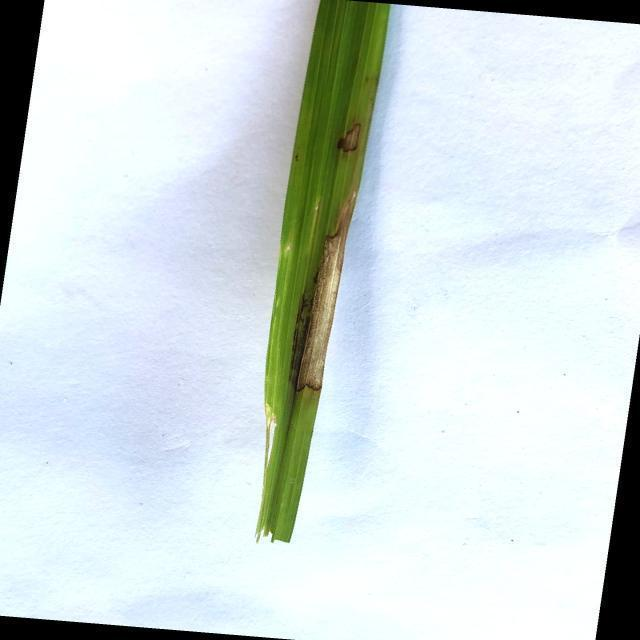Bacterial_Leaf_Blight: (292, 190, 364, 394), (338, 118, 363, 155)
